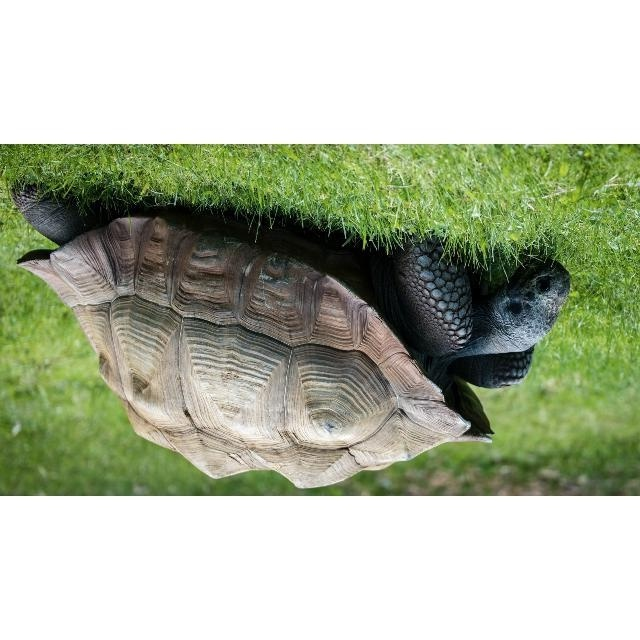turtle: (9, 178, 570, 490)
